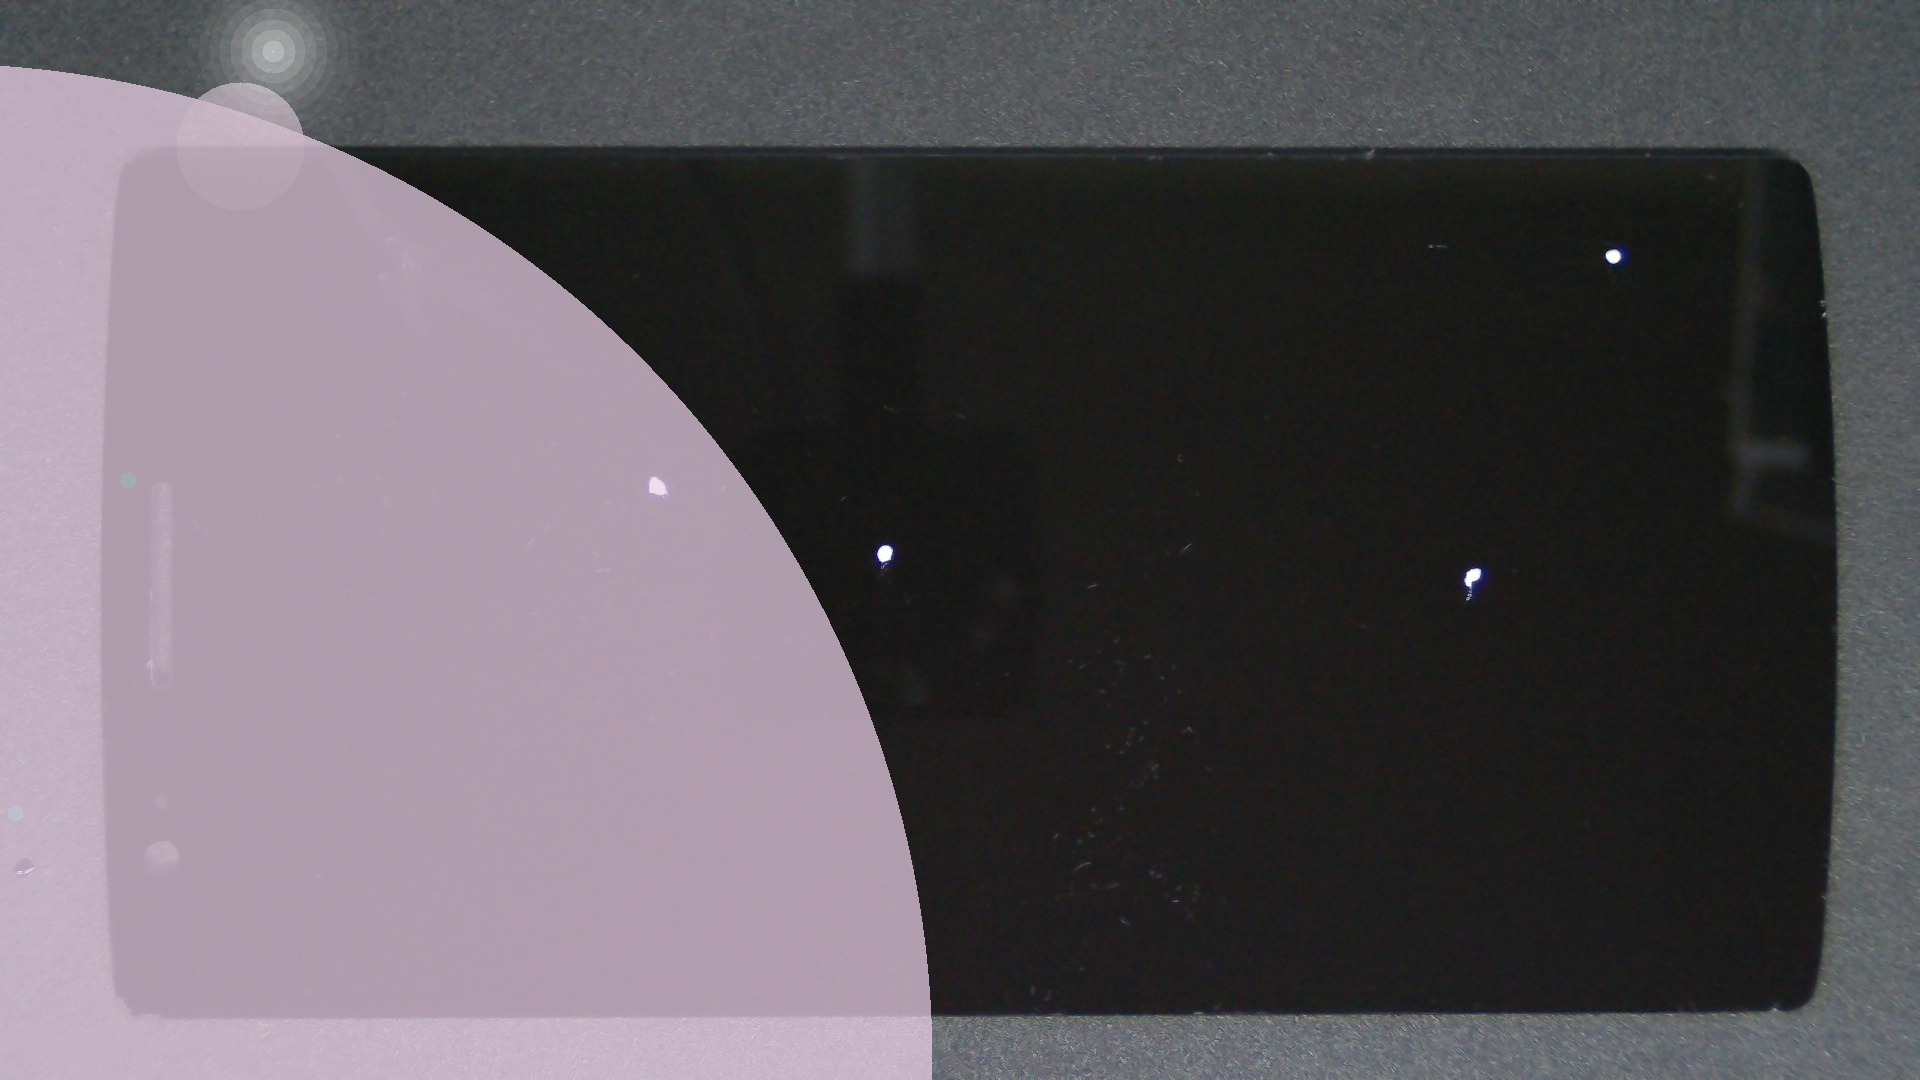oil: (741, 282, 1920, 849), (444, 272, 1333, 816), (324, 236, 975, 712), (808, 124, 1920, 372)
